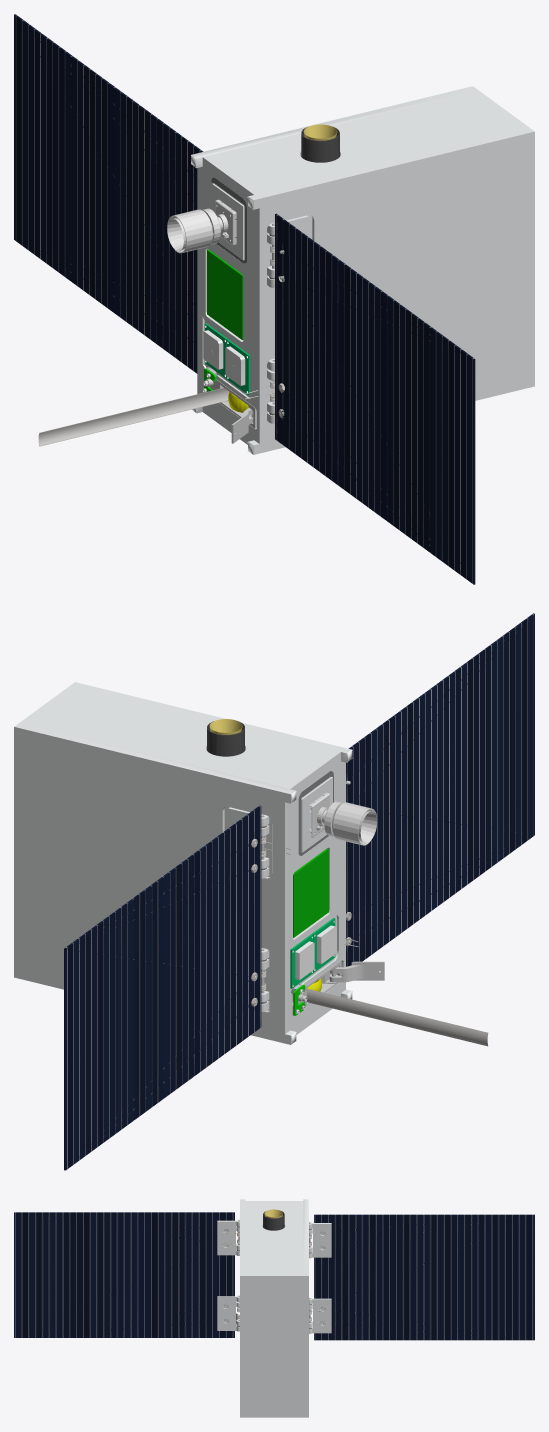
Rendered from Verra_3.glb.
3 views of the same model, one above another, from view 1: azimuth 30°, elevation 25°; view 2: azimuth 150°, elevation 25°; view 3: azimuth 270°, elevation 25° (orthographic). The views are drawn at different scales.
Parts seen in each view (by area): view 1: Geode, OpticalSensor_02, CrossRecess_Cover; view 2: Geode, OpticalSensor_02, CrossRecess_Cover; view 3: Geode.
Boxes of the visible parts, left/top/right/bottom form: Geode: left=14, top=14, right=534, bottom=584; OpticalSensor_02: left=167, top=199, right=236, bottom=253; CrossRecess_Cover: left=212, top=183, right=244, bottom=260; Geode: left=14, top=613, right=534, bottom=1170; OpticalSensor_02: left=309, top=792, right=377, bottom=845; CrossRecess_Cover: left=301, top=777, right=332, bottom=852; Geode: left=14, top=1199, right=534, bottom=1417.
Size of the model in its own units: 5.61 by 3.25 by 9.95.
Materials: 25 (1 with a texture image).
